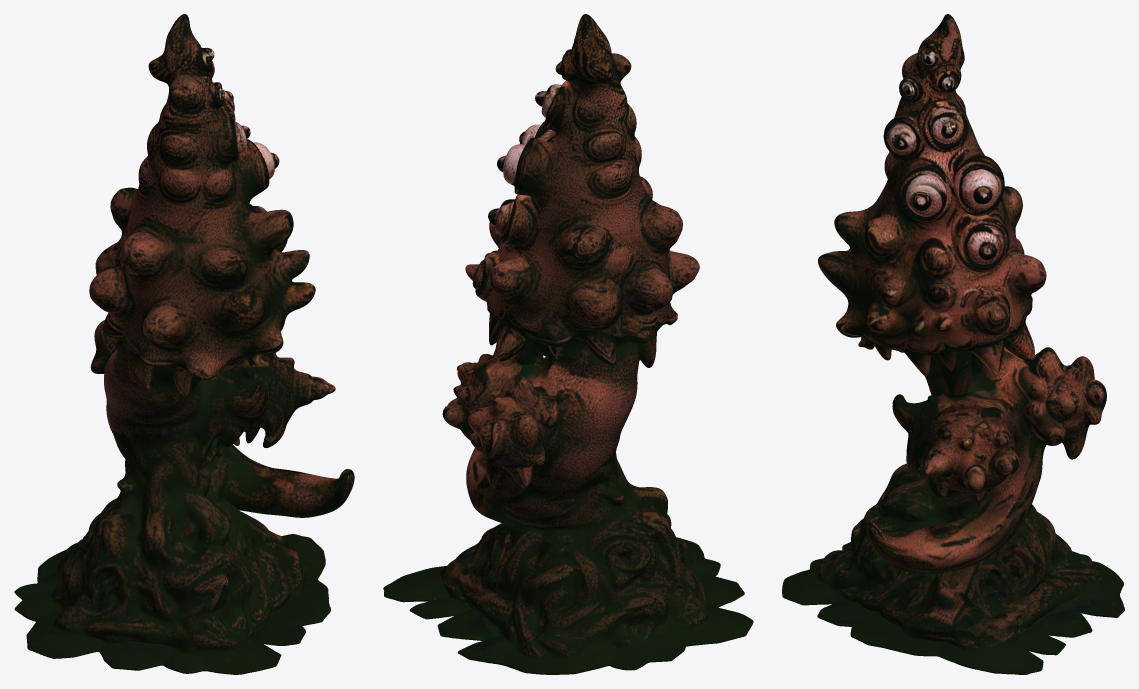
Rendered from plant with eyes.glb.
The picture shows the model from 3 angles, left to right: view 1: azimuth 30°, elevation 25°; view 2: azimuth 150°, elevation 25°; view 3: azimuth 270°, elevation 25°; orthographic projection. The views are drawn at different scales.
Visible parts, largest first — view 1: tripo_node_66617346-b6c1-49d7-988d-0c6de8b8287b; view 2: tripo_node_66617346-b6c1-49d7-988d-0c6de8b8287b; view 3: tripo_node_66617346-b6c1-49d7-988d-0c6de8b8287b.
Boxes of the visible parts, left/top/right/bottom form: tripo_node_66617346-b6c1-49d7-988d-0c6de8b8287b: left=14, top=14, right=354, bottom=674; tripo_node_66617346-b6c1-49d7-988d-0c6de8b8287b: left=383, top=14, right=753, bottom=674; tripo_node_66617346-b6c1-49d7-988d-0c6de8b8287b: left=782, top=14, right=1124, bottom=674.
Bounding box in the file's own units: 0.571 × 1 × 0.5326.
1 material, 1 textured.
